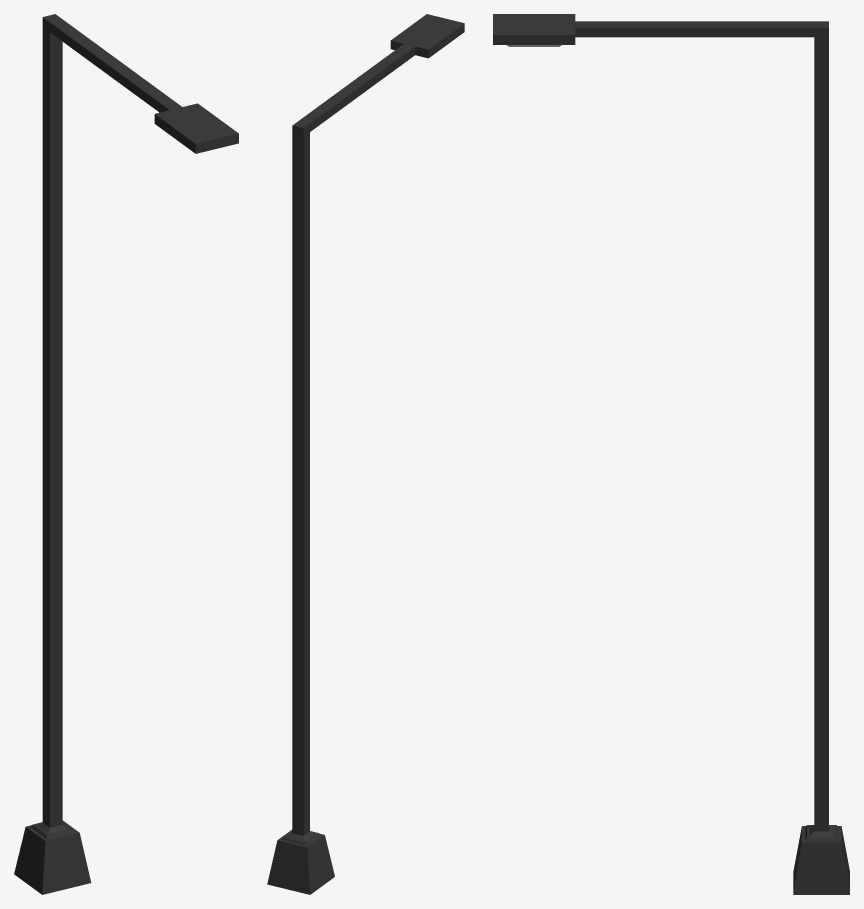
Rendered from Light Pole.fbx.
3 renders of one model, left to right at view 1: azimuth 30°, elevation 25°; view 2: azimuth 150°, elevation 25°; view 3: azimuth 270°, elevation 25°, orthographic. The views are drawn at different scales.
Parts seen in each view (by area): view 1: Light_Pole; view 2: Light_Pole; view 3: Light_Pole.
Part boxes in pixels (x1,y1,x2,y2): Light_Pole: [14, 14, 238, 894]; Light_Pole: [267, 14, 464, 894]; Light_Pole: [493, 14, 849, 894].
Size of the model in its own units: 1.37 by 23.06 by 8.69.
Materials: 1 (1 with a texture image).
